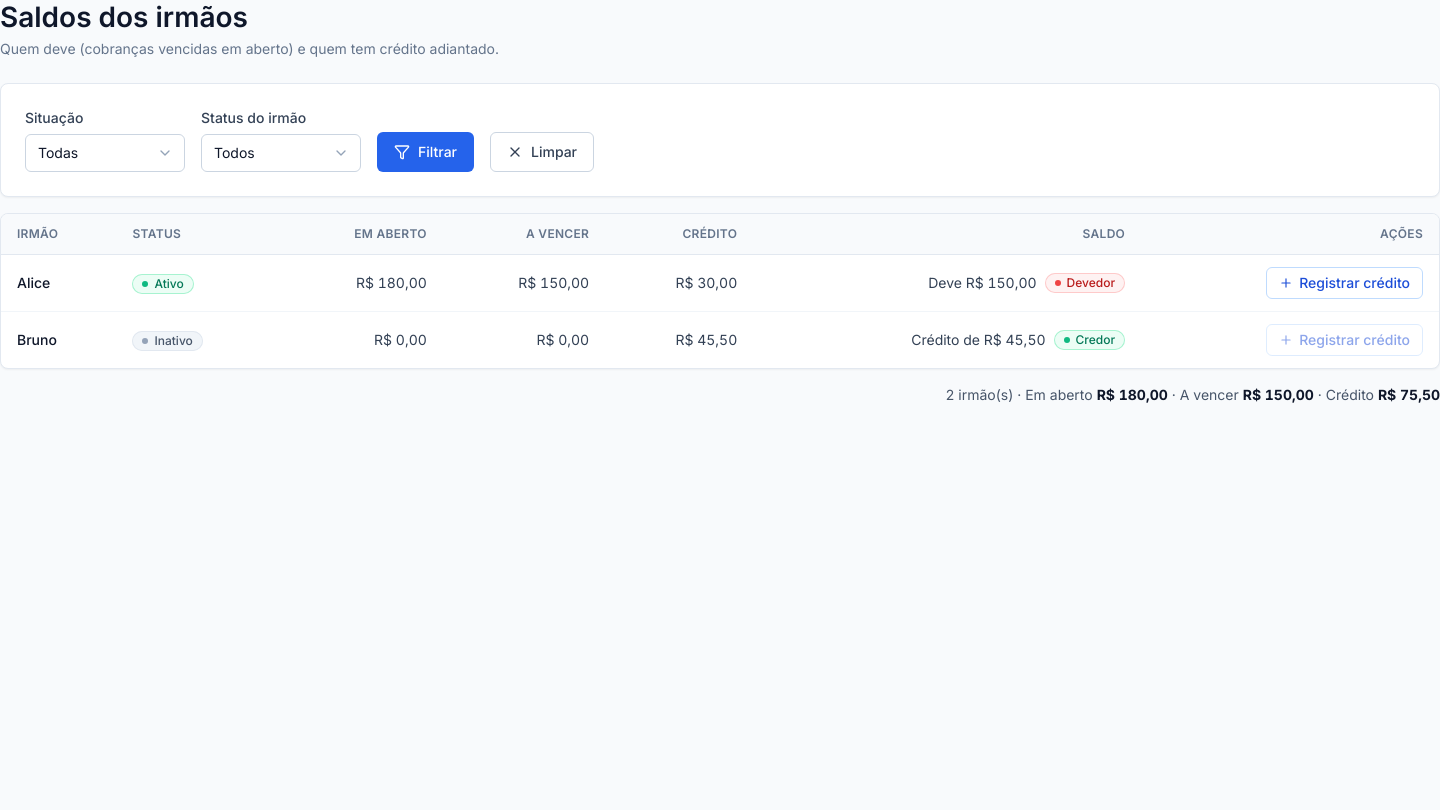
Test: SaldosPage › registrar crédito pela linha › abre o diálogo de registro do irmão da linha
Expected: the link "Alice" is shown, [17,274,50,291]
Click the button with aria-label "Registrar crédito para Alice".
click(1345, 283)  # box [1266,267,1423,299]
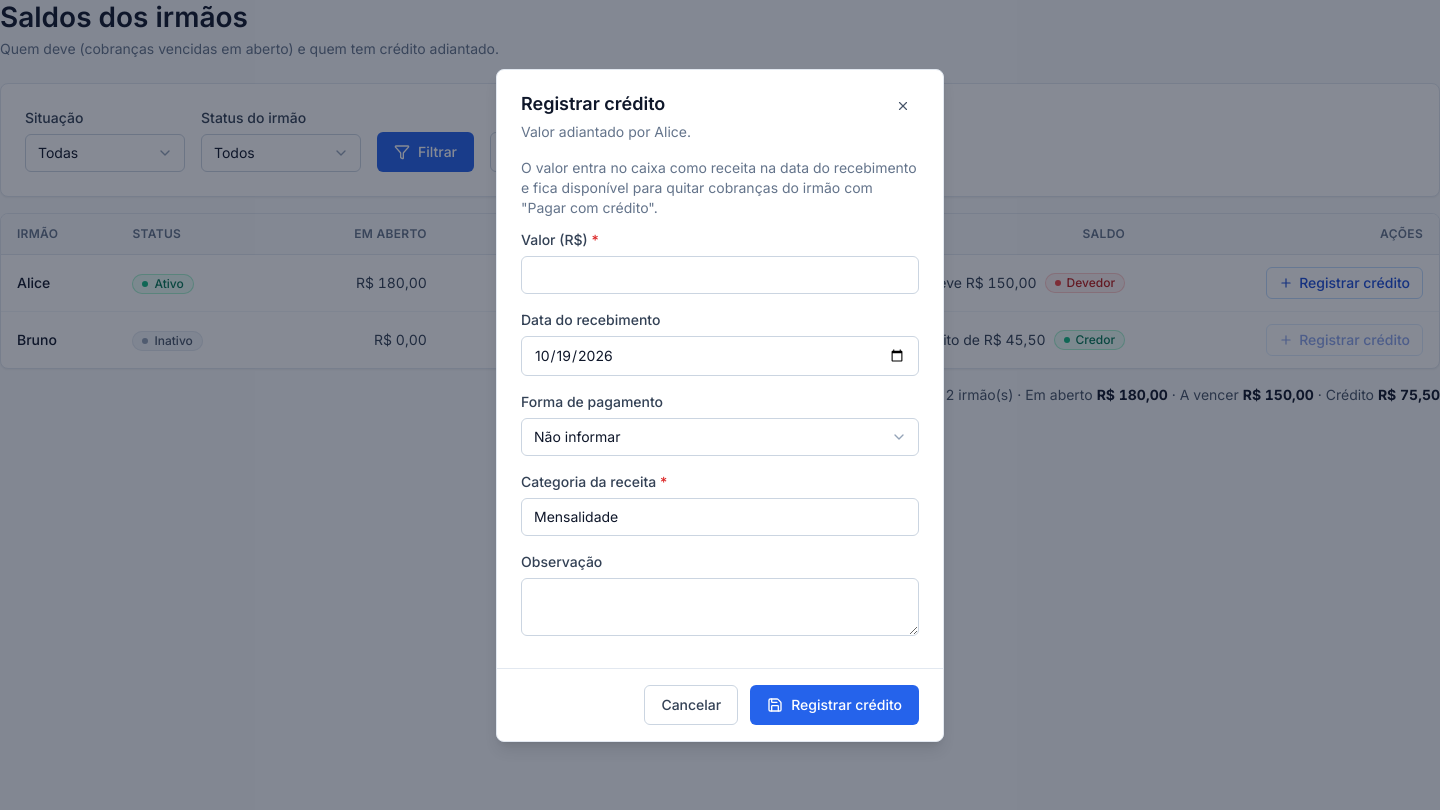
Now the text "Valor adiantado por Alice." is shown, box [521,122,691,142]
Now the field labelled "Categoria da receita *" holds "Mensalidade", box [521,498,919,536]
